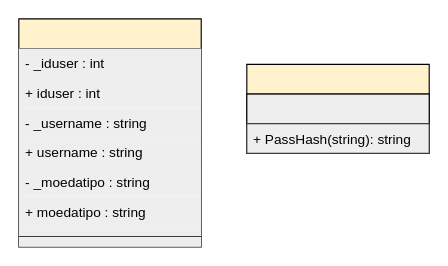
This 448x266 diagram has some shape labels left out. Here are the shapes that lost their labels. From the top down, the box of each, then its label:
(246, 63, 429, 153): HashCode
(18, 18, 201, 247): Class1
